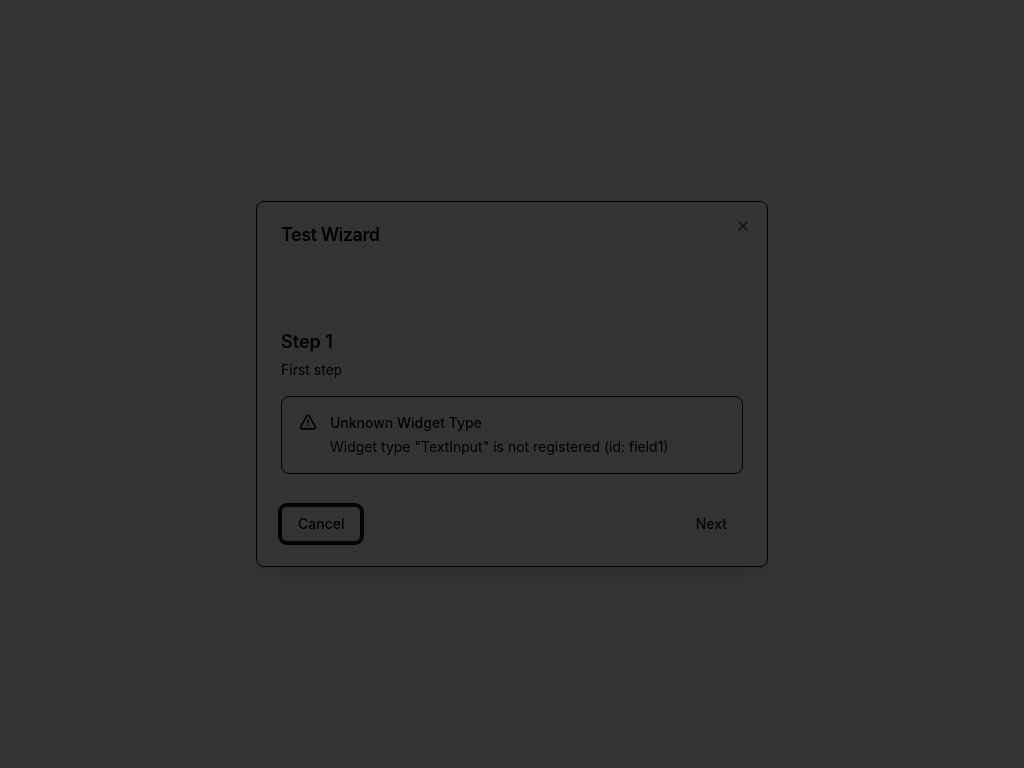
Test case: WizardWidget › navigates to previous step when Previous is clicked
# Navigate to step 2
Click the button "Next".
click(711, 524)  # box [680, 506, 743, 542]
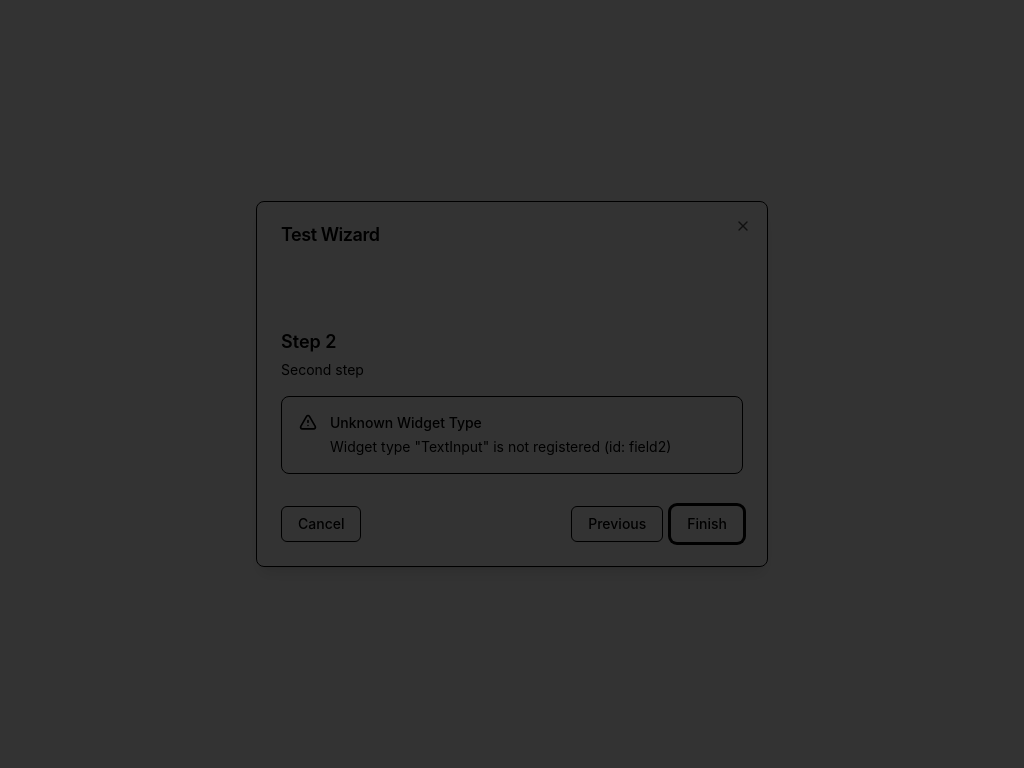
Check: the heading "Step 2" is shown, box [281, 331, 336, 352]
# Navigate back to step 1
Click the button "Previous".
click(617, 524)  # box [571, 506, 663, 542]
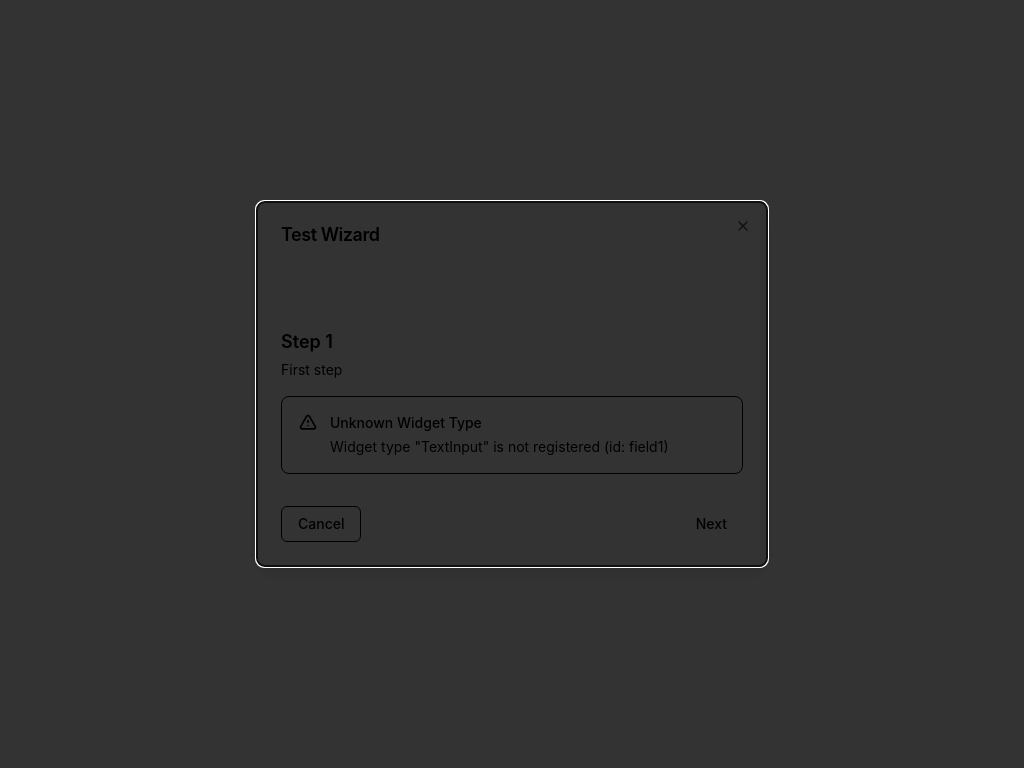
Check: the heading "Step 1" is shown, box [281, 331, 333, 352]
